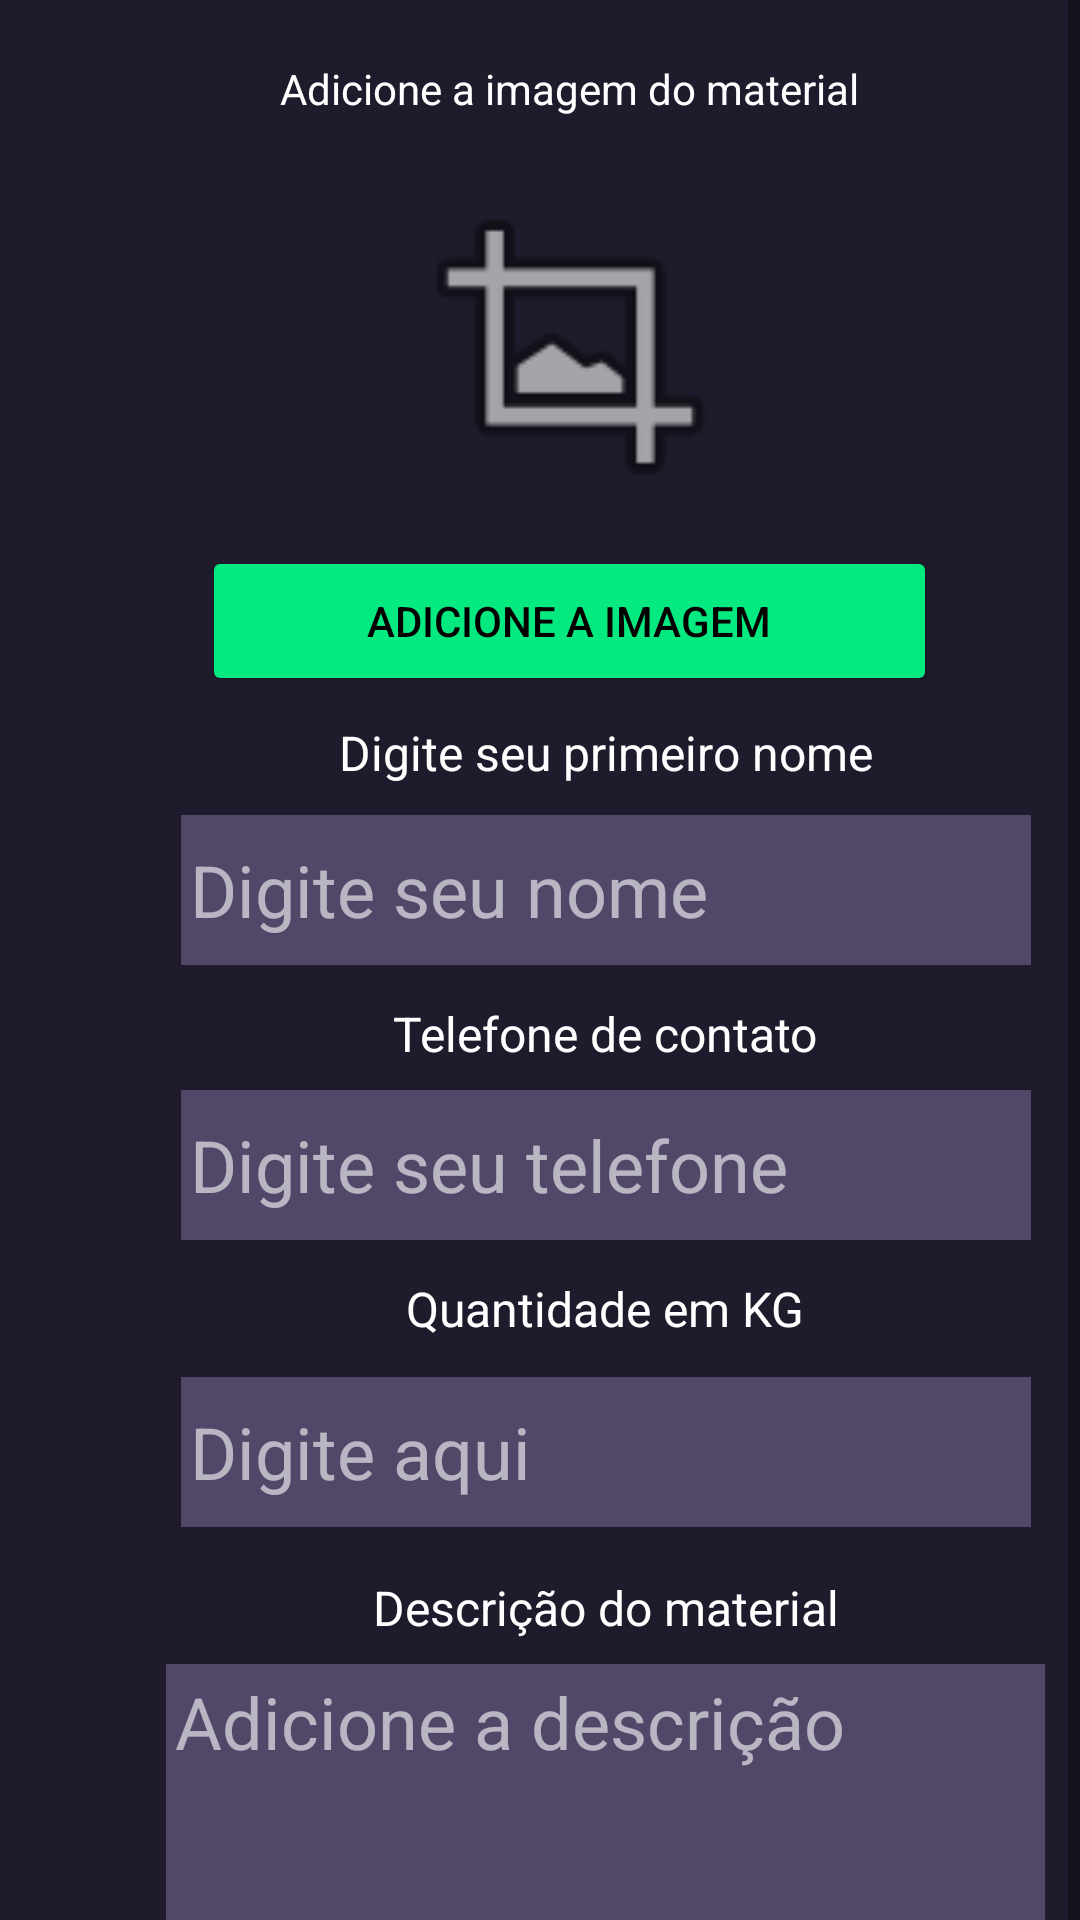

Named icons in this screenshot (1080x1920) and their bounding boxes, (x1, y1, x2, y2):
crop: (447, 228, 693, 466)
